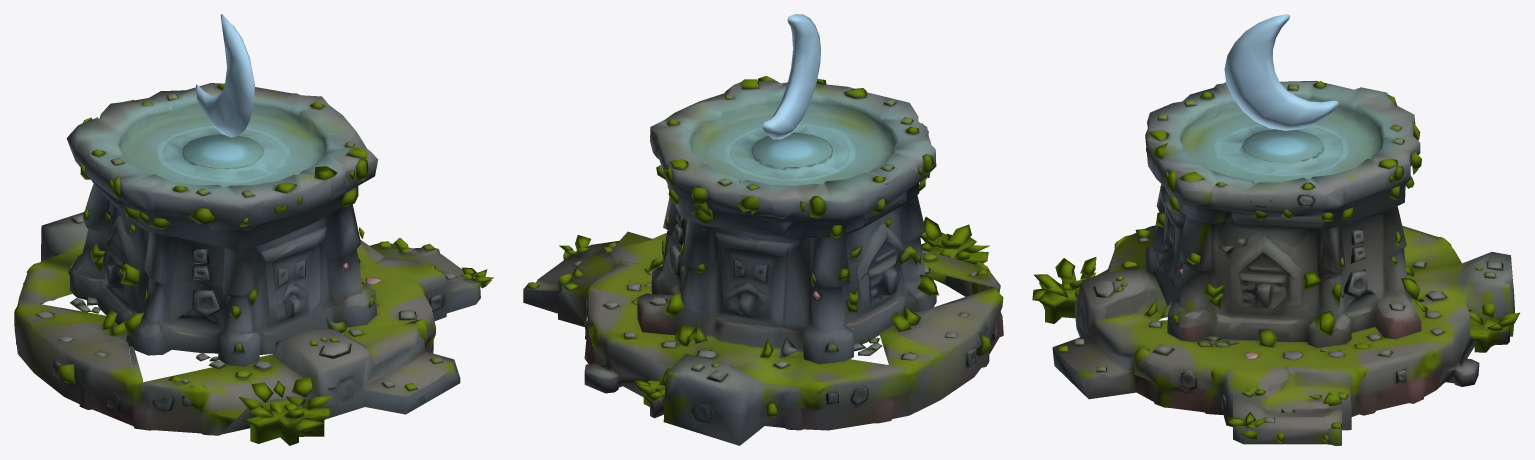
File: moon-altar.glb
3 views of the same model, side by side, from view 1: azimuth 30°, elevation 25°; view 2: azimuth 150°, elevation 25°; view 3: azimuth 270°, elevation 25° (orthographic). The views are drawn at different scales.
Visible parts, largest first — view 1: tripo_node_d75f45f7-1945-4601-b22b-82738315ac66; view 2: tripo_node_d75f45f7-1945-4601-b22b-82738315ac66; view 3: tripo_node_d75f45f7-1945-4601-b22b-82738315ac66.
Boxes of the visible parts, bbox=[...] form: tripo_node_d75f45f7-1945-4601-b22b-82738315ac66: bbox=[14, 14, 493, 445]; tripo_node_d75f45f7-1945-4601-b22b-82738315ac66: bbox=[523, 14, 1003, 445]; tripo_node_d75f45f7-1945-4601-b22b-82738315ac66: bbox=[1032, 14, 1519, 445].
Bounding box in the file's own units: 0.9941 × 0.7285 × 0.998.
Materials: 1 (1 with a texture image).
